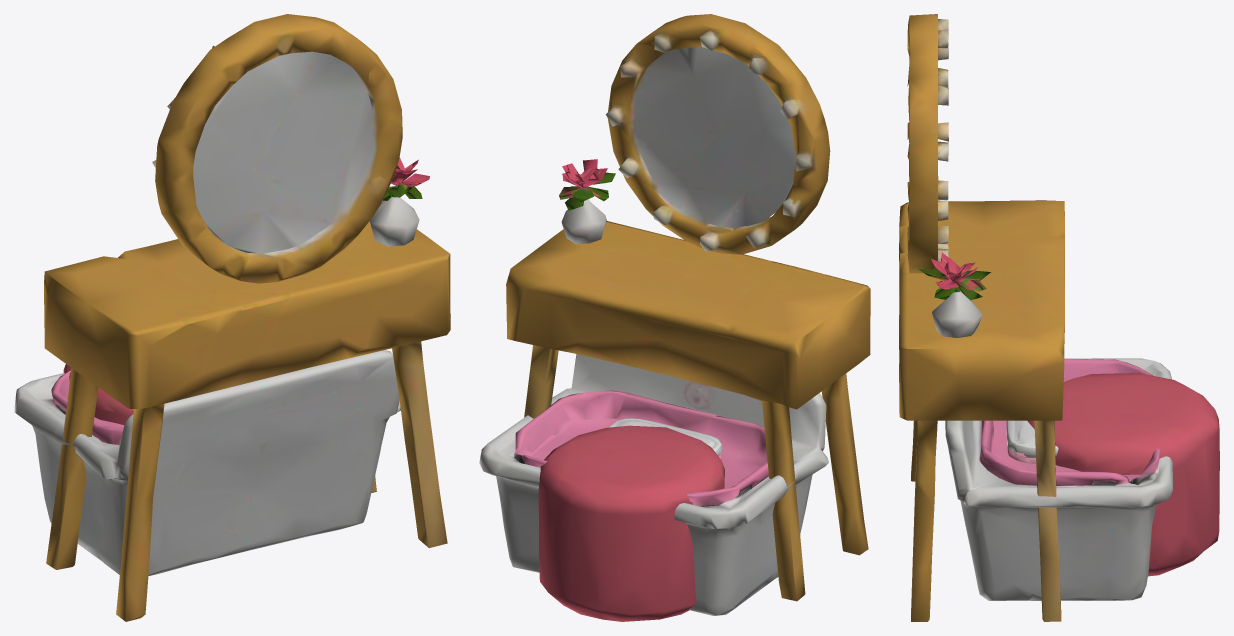
File: restroom-women.glb
3 renders of one model, left to right at view 1: azimuth 30°, elevation 25°; view 2: azimuth 150°, elevation 25°; view 3: azimuth 270°, elevation 25°, orthographic. The views are drawn at different scales.
Visible parts, largest first — view 1: tripo_node_97c7cbba-e837-40a6-ba3a-8250aa6c16e8, tripo_node_72b4bea2-fd66-4165-9d0c-57794236f10c; view 2: tripo_node_97c7cbba-e837-40a6-ba3a-8250aa6c16e8, tripo_node_72b4bea2-fd66-4165-9d0c-57794236f10c, tripo_node_2ed8b52e-91d1-4b52-bb1f-88c4a9e5bca1; view 3: tripo_node_97c7cbba-e837-40a6-ba3a-8250aa6c16e8, tripo_node_72b4bea2-fd66-4165-9d0c-57794236f10c, tripo_node_2ed8b52e-91d1-4b52-bb1f-88c4a9e5bca1.
Part boxes in pixels (x1,y1,x2,y2): tripo_node_97c7cbba-e837-40a6-ba3a-8250aa6c16e8: (44,14,450,621); tripo_node_72b4bea2-fd66-4165-9d0c-57794236f10c: (14,350,400,575); tripo_node_97c7cbba-e837-40a6-ba3a-8250aa6c16e8: (506,14,870,621); tripo_node_72b4bea2-fd66-4165-9d0c-57794236f10c: (479,354,828,615); tripo_node_2ed8b52e-91d1-4b52-bb1f-88c4a9e5bca1: (608,418,722,459); tripo_node_97c7cbba-e837-40a6-ba3a-8250aa6c16e8: (899,14,1219,621); tripo_node_72b4bea2-fd66-4165-9d0c-57794236f10c: (945,358,1172,600); tripo_node_2ed8b52e-91d1-4b52-bb1f-88c4a9e5bca1: (1006,420,1058,463).
Size of the model in its own units: 0.9757 by 1.6 by 0.89.
Materials: 3 (3 with a texture image).
